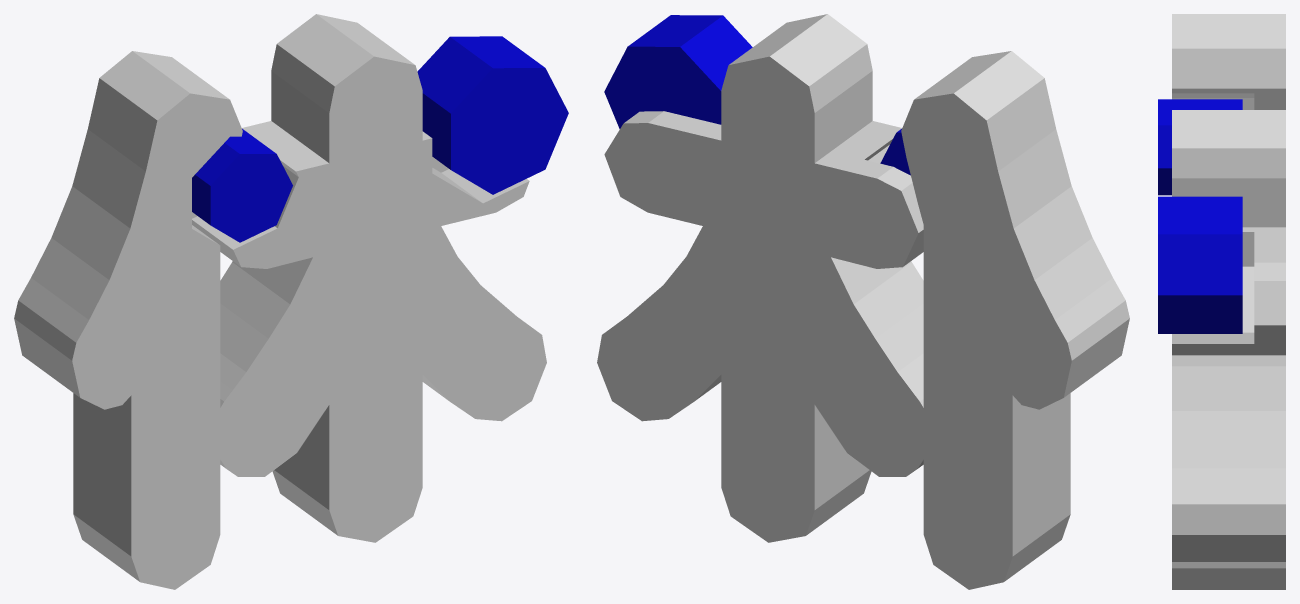
Rendered from Ch_Lite_China_休_01.fbx.
3 views of the same model, side by side, from view 1: azimuth 30°, elevation 25°; view 2: azimuth 150°, elevation 25°; view 3: azimuth 270°, elevation 25° (orthographic).
Parts seen in each view (by area): view 1: sphere1; view 2: sphere1; view 3: sphere1.
Boxes of the visible parts, box(x1,y1,x2,y2) form: sphere1: box(14, 14, 568, 589); sphere1: box(597, 14, 1129, 589); sphere1: box(1158, 14, 1285, 589).
Bounding box in the file's own units: 0.9734 × 0.9395 × 0.2242.
